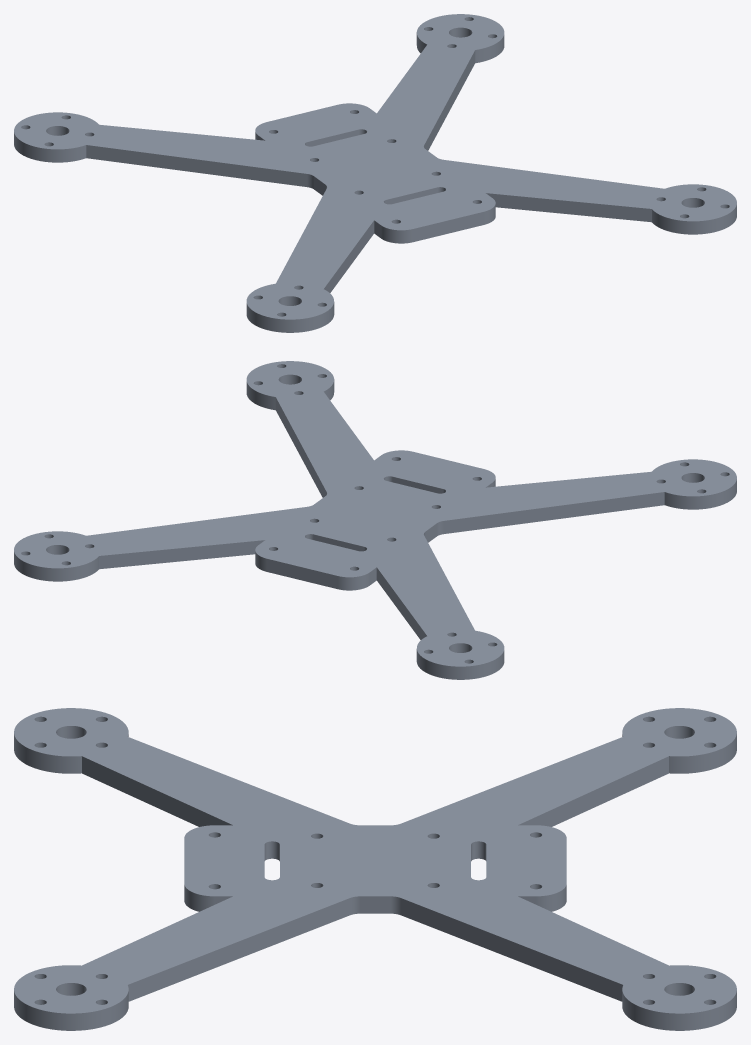
The model's file is step-3-preview-1.glb.
The picture shows the model from 3 angles, top to bottom: view 1: azimuth 30°, elevation 25°; view 2: azimuth 150°, elevation 25°; view 3: azimuth 270°, elevation 25°; orthographic projection. The views are drawn at different scales.
Parts seen in each view (by area): view 1: preview_4, preview_16, preview_11, preview_6, preview_13, preview_18, preview_5, preview_23, preview_2, preview_25; view 2: preview_4, preview_8, preview_27, preview_18, preview_25, preview_6, preview_26, preview_15, preview_20, preview_13; view 3: preview_4, preview_15, preview_23, preview_2, preview_20, preview_13, preview_25, preview_6, preview_18, preview_19.
Boxes of the visible parts, x1,y1,x2,y2 form: preview_4: [14, 14, 736, 319]; preview_16: [86, 145, 307, 186]; preview_11: [486, 193, 651, 222]; preview_6: [246, 302, 334, 332]; preview_13: [652, 205, 736, 234]; preview_18: [14, 132, 86, 162]; preview_5: [413, 212, 483, 242]; preview_23: [424, 50, 475, 150]; preview_2: [324, 220, 374, 292]; preview_25: [416, 32, 504, 63]; preview_4: [14, 361, 736, 666]; preview_8: [443, 492, 664, 533]; preview_27: [99, 540, 264, 569]; preview_18: [416, 649, 504, 679]; preview_25: [14, 552, 98, 581]; preview_6: [664, 479, 736, 509]; preview_26: [267, 559, 337, 589]; preview_15: [275, 397, 326, 497]; preview_20: [376, 567, 426, 639]; preview_13: [246, 379, 334, 410]; preview_4: [14, 708, 736, 1013]; preview_15: [128, 898, 349, 1001]; preview_23: [401, 898, 622, 1001]; preview_2: [82, 756, 232, 826]; preview_20: [518, 756, 668, 826]; preview_13: [14, 991, 128, 1030]; preview_25: [622, 991, 736, 1030]; preview_6: [14, 734, 128, 773]; preview_18: [622, 734, 736, 773]; preview_19: [360, 896, 390, 913].
Bounding box in the file's own units: 0.1891 × 0.005 × 0.1891.
